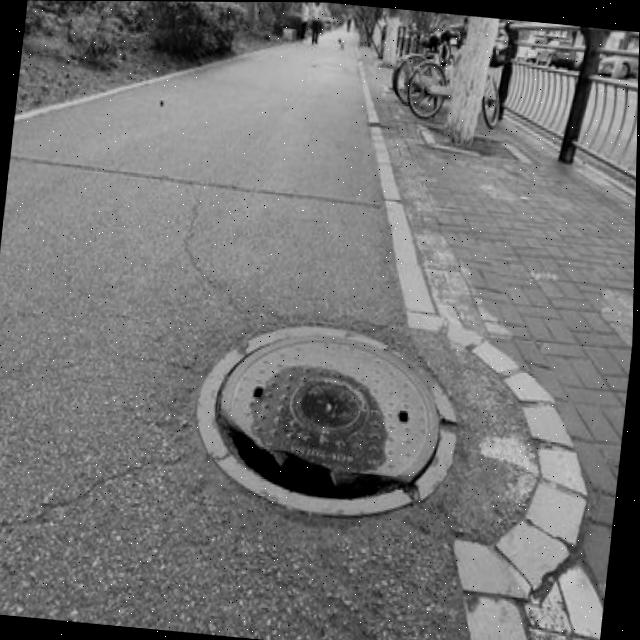manhole: (186, 303, 467, 521)
